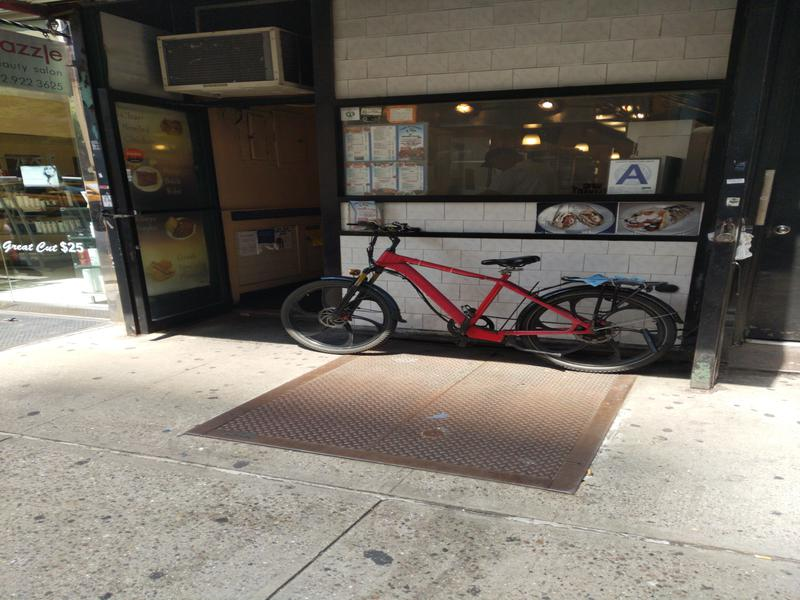door: (92, 80, 246, 332)
